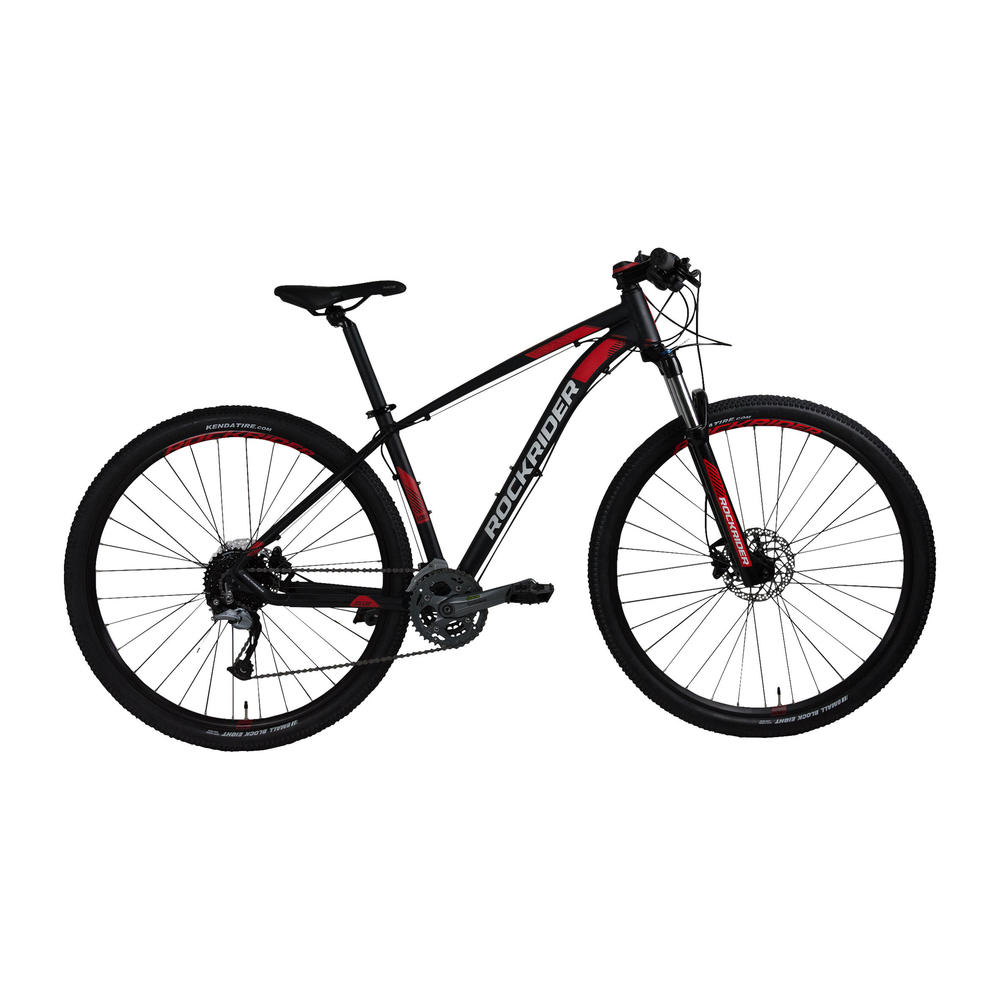RoadBike: (622, 511, 779, 797), (473, 489, 550, 652), (359, 488, 435, 624)
